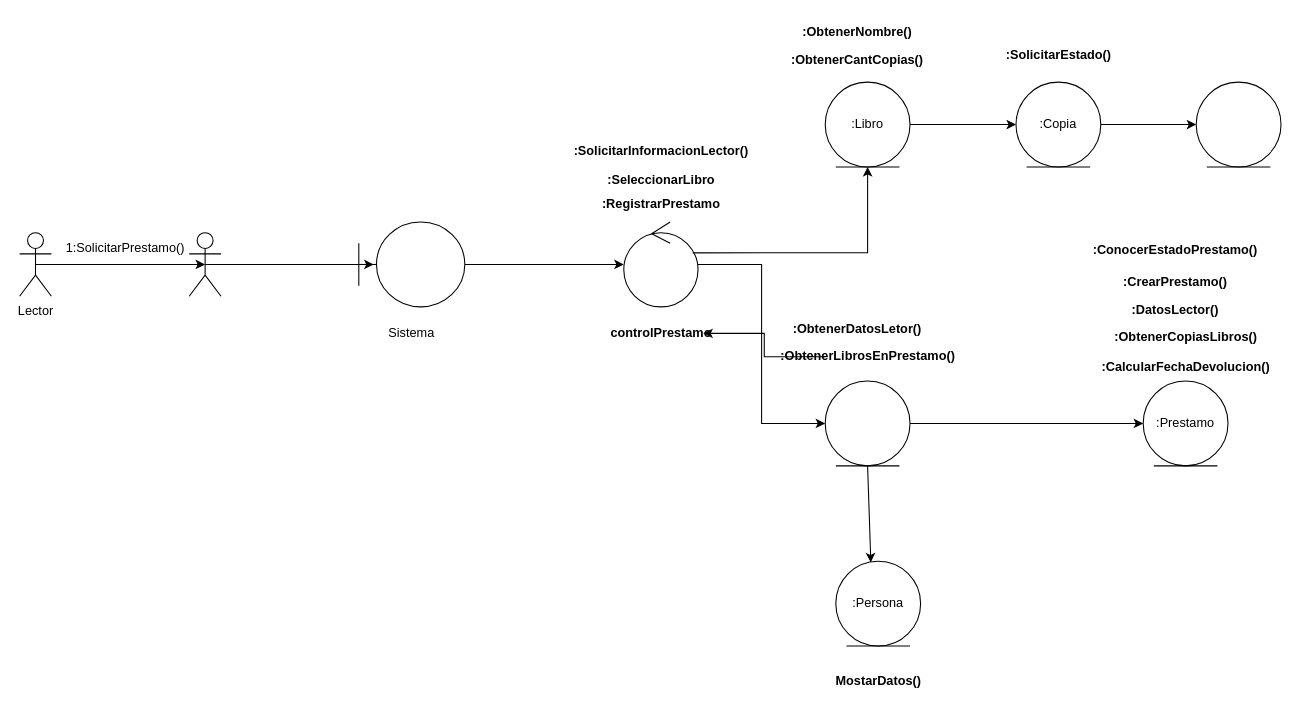
The diagram is 1300 pixels wide and 712 high, and some of its shapes have lost their labels. Each missing label, with the centre of its shape:
":Estado" goes at pixel 1238 124.
":Lector" goes at pixel 867 423.
"Bibliotecario" goes at pixel 204 264.
